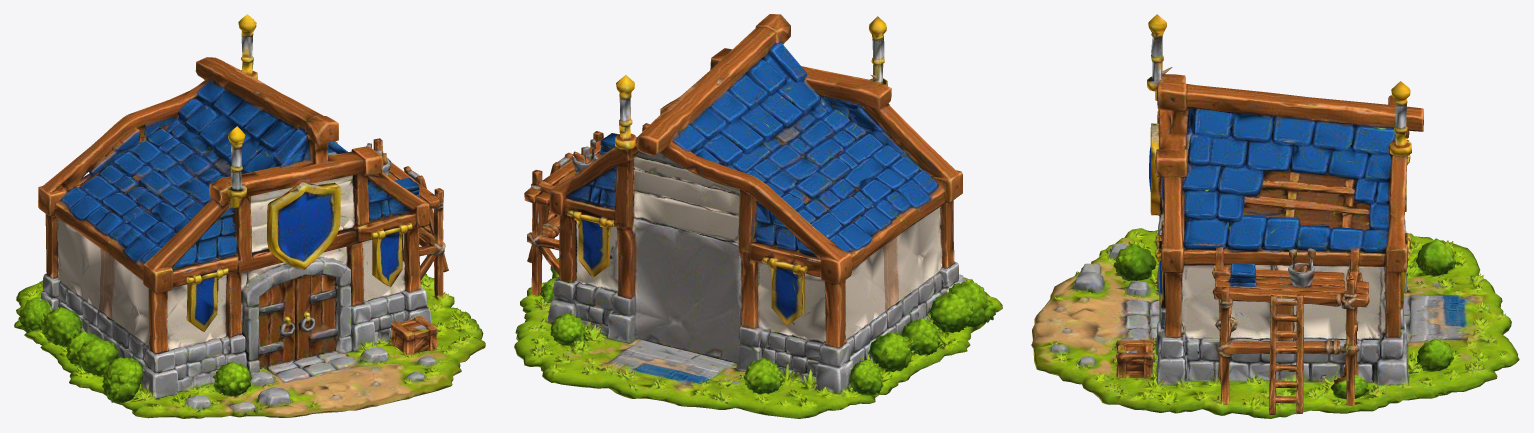
File: cuartel_e3.glb
3 renders of one model, left to right at view 1: azimuth 30°, elevation 25°; view 2: azimuth 150°, elevation 25°; view 3: azimuth 270°, elevation 25°, orthographic. The views are drawn at different scales.
Bounding box in the file's own units: 1.87 × 1.18 × 1.9.
1 material, 1 textured.
